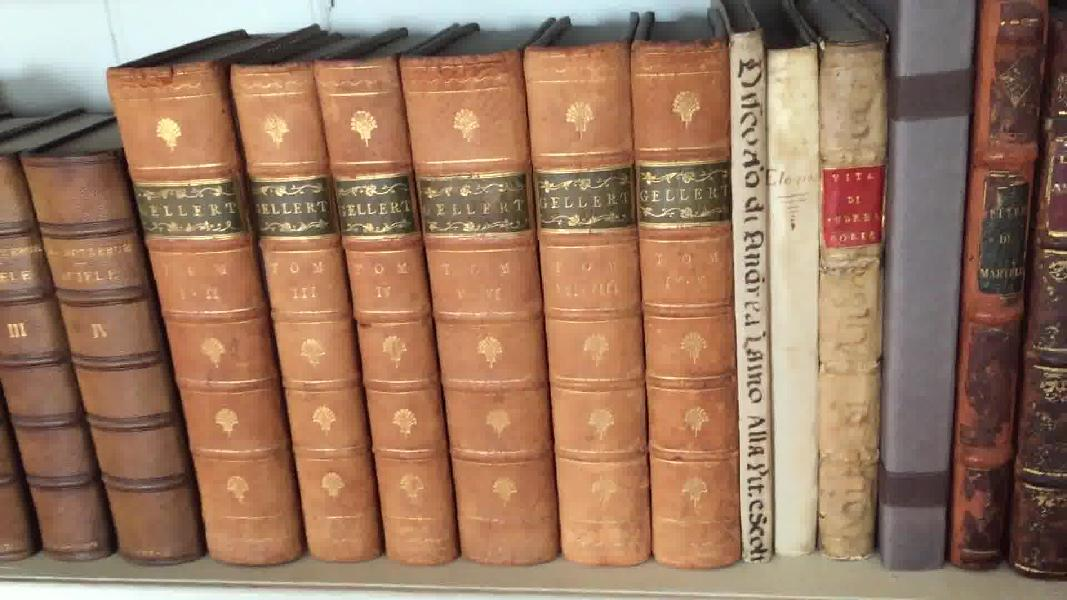Aa6-18_23: (104, 24, 743, 571)
Aa6-24: (729, 28, 770, 562)
Aa6-25: (763, 39, 823, 562)
Aa6-26: (820, 36, 890, 561)
Aa6-27: (890, 4, 975, 578)
Aa6-28: (951, 5, 1033, 575)
